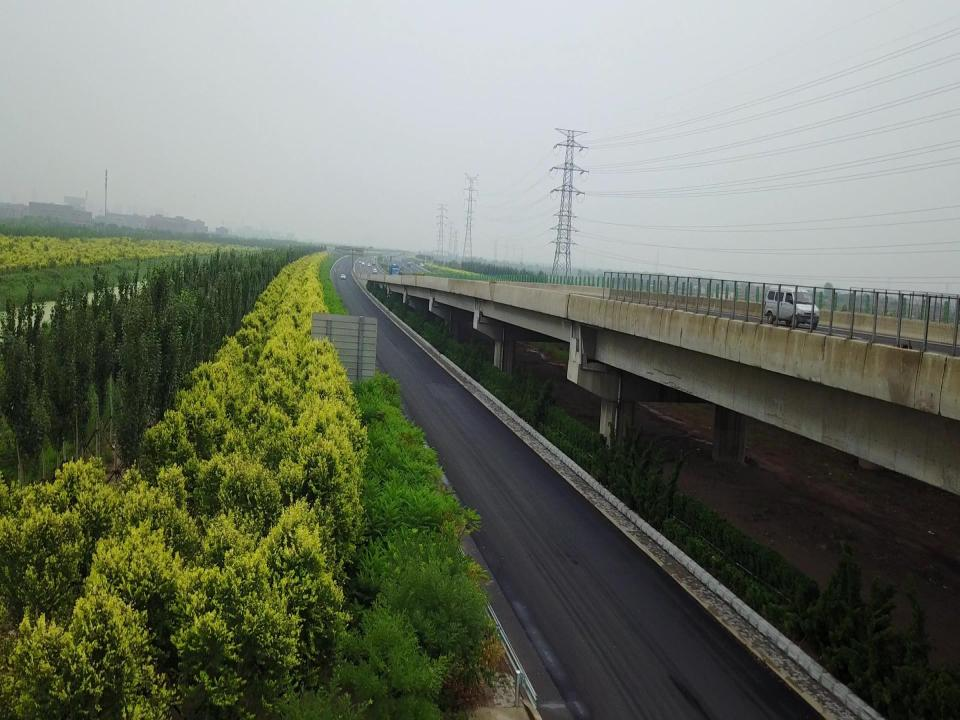car: (388, 263, 402, 274), (338, 272, 348, 279)
van: (764, 285, 822, 327)
